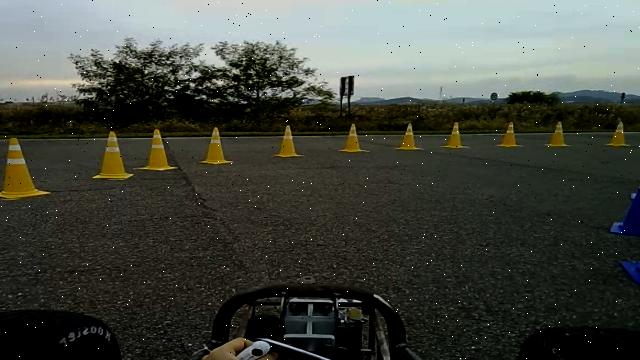blue cone: (606, 148, 640, 237), (630, 139, 640, 199)
yellow cone: (0, 136, 52, 199), (92, 131, 134, 180), (134, 128, 180, 171), (198, 126, 233, 165), (274, 124, 304, 158), (338, 122, 370, 153), (440, 122, 471, 150), (395, 122, 424, 150), (496, 121, 524, 147), (606, 119, 632, 146), (545, 121, 571, 146)
